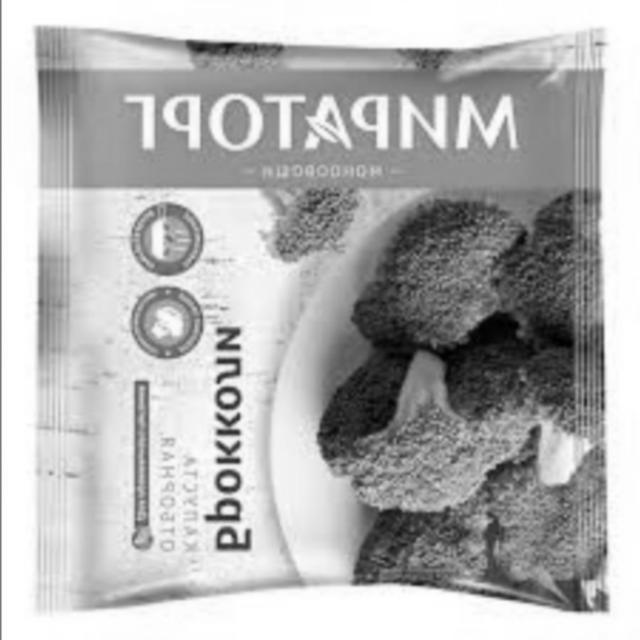broccoli: (429, 346, 577, 572), (330, 190, 522, 328), (358, 339, 514, 501), (355, 472, 491, 595), (250, 166, 371, 276)
